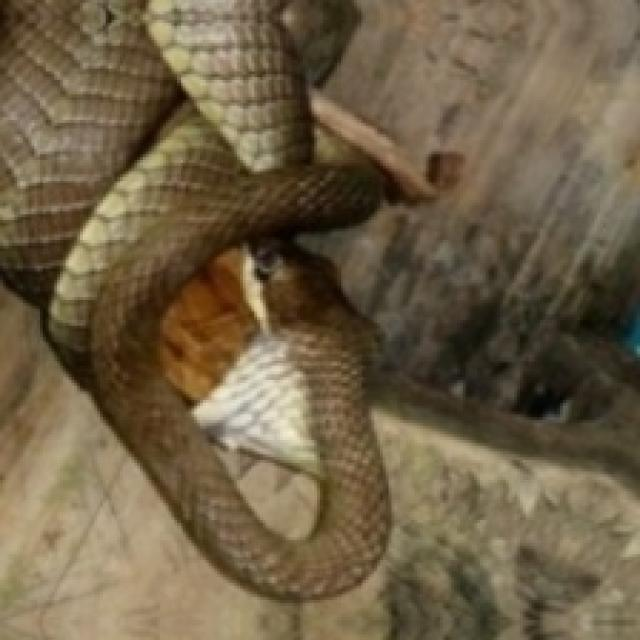paradise tree snake: (0, 0, 431, 597)
